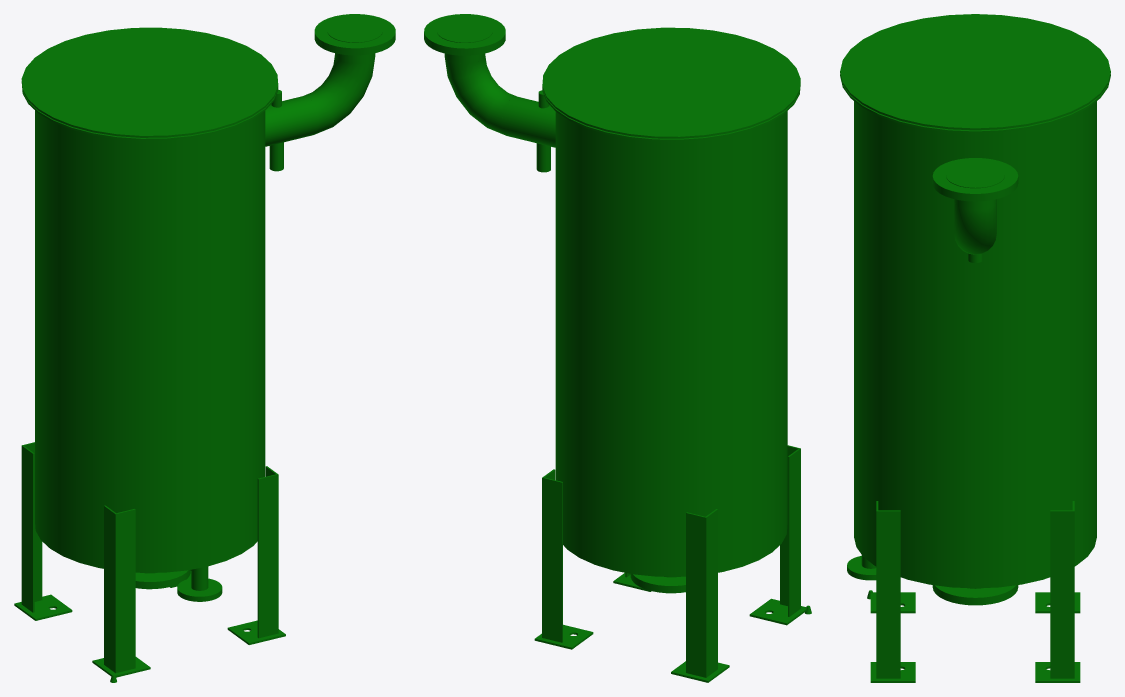
Rendered from Image-1710907747239-2281184264768_27-CB59.fbx.
3 views of the same model, side by side, from view 1: azimuth 30°, elevation 25°; view 2: azimuth 150°, elevation 25°; view 3: azimuth 270°, elevation 25° (orthographic). The views are drawn at different scales.
Parts seen in each view (by area): view 1: CYLINDER 3 of SUBEQUIPMENT 1 of EQUIPMENT /27-CB59, CYLINDER 1 of SUBEQUIPMENT 1 of EQUIPMENT /27-CB59, BOX 1 of SUBEQUIPMENT 1 of EQUIPMENT /27-CB59, BOX 8 of SUBEQUIPMENT 1 of EQUIPMENT /27-CB59, /27-CB59/OUTLET, BOX 6 of SUBEQUIPMENT 1 of EQUIPMENT /27-CB59, CTORUS 1 of SUBEQUIPMENT 1 of EQUIPMENT /27-CB59, CYLINDER 7 of SUBEQUIPMENT 1 of EQUIPMENT /27-CB59, /27-CB59/N119, CYLINDER 2 of SUBEQUIPMENT 1 of EQUIPMENT /27-CB59, /27-CB59/N121, BOX 3 of SUBEQUIPMENT 1 of EQUIPMENT /27-CB59 (+1 smaller); view 2: CYLINDER 3 of SUBEQUIPMENT 1 of EQUIPMENT /27-CB59, CYLINDER 1 of SUBEQUIPMENT 1 of EQUIPMENT /27-CB59, BOX 6 of SUBEQUIPMENT 1 of EQUIPMENT /27-CB59, BOX 7 of SUBEQUIPMENT 1 of EQUIPMENT /27-CB59, /27-CB59/OUTLET, CTORUS 1 of SUBEQUIPMENT 1 of EQUIPMENT /27-CB59, BOX 1 of SUBEQUIPMENT 1 of EQUIPMENT /27-CB59, CYLINDER 7 of SUBEQUIPMENT 1 of EQUIPMENT /27-CB59, CYLINDER 2 of SUBEQUIPMENT 1 of EQUIPMENT /27-CB59, /27-CB59/N121, BOX 2 of SUBEQUIPMENT 1 of EQUIPMENT /27-CB59, BOX 4 of SUBEQUIPMENT 1 of EQUIPMENT /27-CB59; view 3: CYLINDER 3 of SUBEQUIPMENT 1 of EQUIPMENT /27-CB59, CYLINDER 1 of SUBEQUIPMENT 1 of EQUIPMENT /27-CB59, BOX 7 of SUBEQUIPMENT 1 of EQUIPMENT /27-CB59, BOX 8 of SUBEQUIPMENT 1 of EQUIPMENT /27-CB59, /27-CB59/OUTLET, CTORUS 1 of SUBEQUIPMENT 1 of EQUIPMENT /27-CB59, /27-CB59/N121, CYLINDER 2 of SUBEQUIPMENT 1 of EQUIPMENT /27-CB59, BOX 4 of SUBEQUIPMENT 1 of EQUIPMENT /27-CB59, BOX 5 of SUBEQUIPMENT 1 of EQUIPMENT /27-CB59, /27-CB59/N119, BOX 3 of SUBEQUIPMENT 1 of EQUIPMENT /27-CB59 (+1 smaller).
Boxes of the visible parts, box(x1,y1,x2,y2) form: CYLINDER 3 of SUBEQUIPMENT 1 of EQUIPMENT /27-CB59: box(35, 110, 265, 572); CYLINDER 1 of SUBEQUIPMENT 1 of EQUIPMENT /27-CB59: box(21, 27, 278, 137); BOX 1 of SUBEQUIPMENT 1 of EQUIPMENT /27-CB59: box(104, 505, 135, 673); BOX 8 of SUBEQUIPMENT 1 of EQUIPMENT /27-CB59: box(257, 466, 278, 638); /27-CB59/OUTLET: box(314, 14, 395, 63); BOX 6 of SUBEQUIPMENT 1 of EQUIPMENT /27-CB59: box(21, 442, 42, 612); CTORUS 1 of SUBEQUIPMENT 1 of EQUIPMENT /27-CB59: box(304, 55, 375, 134); CYLINDER 7 of SUBEQUIPMENT 1 of EQUIPMENT /27-CB59: box(265, 95, 318, 146); /27-CB59/N119: box(177, 566, 222, 601); CYLINDER 2 of SUBEQUIPMENT 1 of EQUIPMENT /27-CB59: box(21, 81, 278, 140); /27-CB59/N121: box(135, 570, 190, 589); BOX 3 of SUBEQUIPMENT 1 of EQUIPMENT /27-CB59: box(14, 594, 72, 620); CYLINDER 3 of SUBEQUIPMENT 1 of EQUIPMENT /27-CB59: box(555, 111, 787, 576); CYLINDER 1 of SUBEQUIPMENT 1 of EQUIPMENT /27-CB59: box(542, 27, 800, 138); BOX 6 of SUBEQUIPMENT 1 of EQUIPMENT /27-CB59: box(686, 509, 717, 677); BOX 7 of SUBEQUIPMENT 1 of EQUIPMENT /27-CB59: box(542, 469, 562, 642); /27-CB59/OUTLET: box(424, 14, 505, 63); CTORUS 1 of SUBEQUIPMENT 1 of EQUIPMENT /27-CB59: box(444, 56, 516, 135); BOX 1 of SUBEQUIPMENT 1 of EQUIPMENT /27-CB59: box(780, 445, 800, 616); CYLINDER 7 of SUBEQUIPMENT 1 of EQUIPMENT /27-CB59: box(502, 96, 555, 147); CYLINDER 2 of SUBEQUIPMENT 1 of EQUIPMENT /27-CB59: box(542, 84, 800, 141); /27-CB59/N121: box(630, 574, 685, 593); BOX 2 of SUBEQUIPMENT 1 of EQUIPMENT /27-CB59: box(749, 598, 806, 625); BOX 4 of SUBEQUIPMENT 1 of EQUIPMENT /27-CB59: box(534, 624, 593, 649); CYLINDER 3 of SUBEQUIPMENT 1 of EQUIPMENT /27-CB59: box(854, 101, 1096, 588); CYLINDER 1 of SUBEQUIPMENT 1 of EQUIPMENT /27-CB59: box(840, 14, 1110, 130); BOX 7 of SUBEQUIPMENT 1 of EQUIPMENT /27-CB59: box(1050, 501, 1074, 678); BOX 8 of SUBEQUIPMENT 1 of EQUIPMENT /27-CB59: box(876, 501, 900, 678); /27-CB59/OUTLET: box(932, 158, 1018, 210); CTORUS 1 of SUBEQUIPMENT 1 of EQUIPMENT /27-CB59: box(954, 201, 996, 254); /27-CB59/N121: box(932, 585, 1018, 605); CYLINDER 2 of SUBEQUIPMENT 1 of EQUIPMENT /27-CB59: box(840, 74, 1110, 133); BOX 4 of SUBEQUIPMENT 1 of EQUIPMENT /27-CB59: box(1035, 662, 1080, 682); BOX 5 of SUBEQUIPMENT 1 of EQUIPMENT /27-CB59: box(870, 662, 915, 682); /27-CB59/N119: box(847, 555, 876, 580); BOX 3 of SUBEQUIPMENT 1 of EQUIPMENT /27-CB59: box(1035, 592, 1080, 613).
Bounding box in the file's own units: 1.14 × 0.724 × 1.69.
